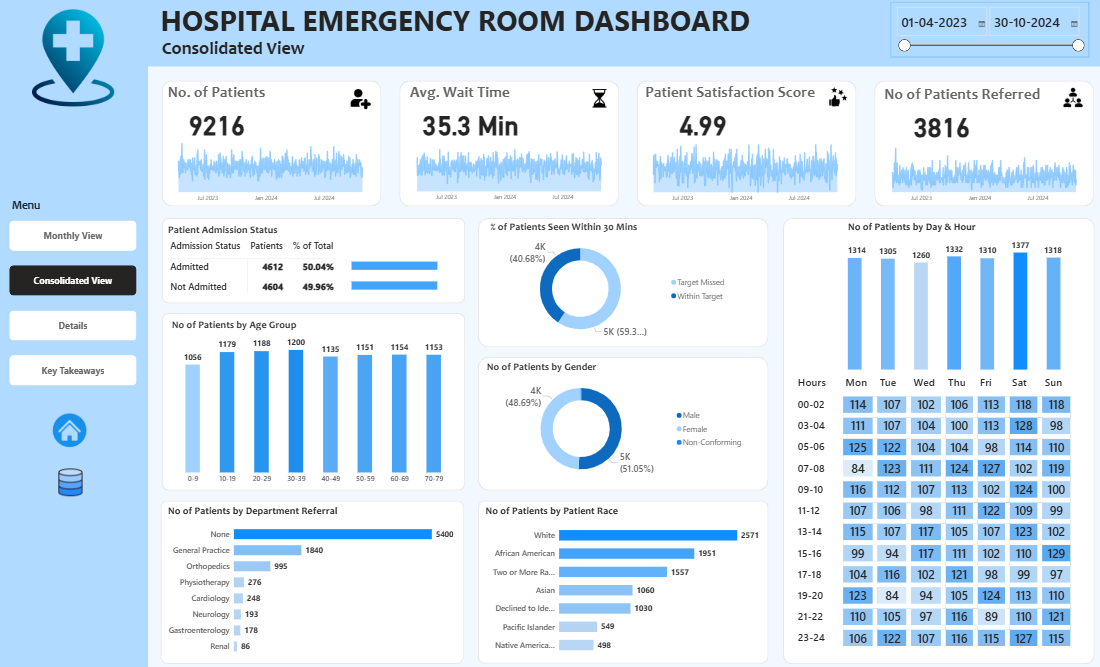

The dashboard page shown, as its layout file describes it:
{"tool":"powerbi","page":{"name":"Consolidated View","canvas":[2300,1400],"ordinal":1},"visuals":[{"type":"shape","box":[338.5,171.3,455.5,261.2],"z":0},{"type":"shape","box":[1324.7,171.3,455.5,261.2],"z":1000},{"type":"shape","box":[0,0,311.3,1399.9],"z":2000},{"type":"shape","box":[831.6,171.3,455.5,261.2],"z":3000},{"type":"card","fields":{"Values":["Hospital ER_Hospital ER.No of Patients"]},"box":[374,225.7,160.9,66.9],"z":4000},{"type":"card","fields":{"Values":["Hospital ER_Hospital ER.Avg Wait Time"]},"box":[869.2,225.7,223.6,66.9],"z":5000},{"type":"card","fields":{"Values":["Avg(Hospital ER_Hospital ER.Patient Satisfaction Score)"]},"box":[1381.4,225.6,160.9,66.9],"z":6000},{"type":"shape","box":[1817.8,171.3,455.5,261.2],"z":7000},{"type":"card","fields":{"Values":["Hospital ER_Hospital ER.Measure"]},"box":[1876.7,227.6,160.9,66.9],"z":8000},{"type":"shape","box":[311.3,0,1989.1,142.1],"z":9000},{"type":"textbox","box":[339.2,171.3,227.8,56.5],"z":10000},{"type":"textbox","box":[841.3,171.3,231.1,56.5],"z":11000},{"type":"textbox","box":[1331.2,172,377.5,55.8],"z":12000},{"type":"textbox","box":[1828.2,173.4,344.8,56.4],"z":13000},{"type":"areaChart","fields":{"Y":["Hospital ER_Hospital ER.No of Patients"],"Category":["Calendar Table.Date.Variation.Date Hierarchy.Year","Calendar Table.Date.Variation.Date Hierarchy.Quarter","Calendar Table.Date.Variation.Date Hierarchy.Month","Calendar Table.Date.Variation.Date Hierarchy.Day"]},"box":[348.4,288.1,435.5,145.2],"z":14000},{"type":"areaChart","fields":{"Category":["Calendar Table.Date.Variation.Date Hierarchy.Year","Calendar Table.Date.Variation.Date Hierarchy.Quarter","Calendar Table.Date.Variation.Date Hierarchy.Month","Calendar Table.Date.Variation.Date Hierarchy.Day"],"Y":["Avg(Hospital ER_Hospital ER.Patient Waittime)"]},"box":[842.1,285.9,435.5,145.2],"z":15000},{"type":"areaChart","fields":{"Category":["Calendar Table.Date.Variation.Date Hierarchy.Year","Calendar Table.Date.Variation.Date Hierarchy.Quarter","Calendar Table.Date.Variation.Date Hierarchy.Month","Calendar Table.Date.Variation.Date Hierarchy.Day"],"Y":["Avg(Hospital ER_Hospital ER.Patient Satisfaction Score)"]},"box":[1333.4,290.4,435.5,142.9],"z":16000},{"type":"areaChart","fields":{"Category":["Calendar Table.Date.Variation.Date Hierarchy.Year","Calendar Table.Date.Variation.Date Hierarchy.Quarter","Calendar Table.Date.Variation.Date Hierarchy.Month","Calendar Table.Date.Variation.Date Hierarchy.Day"],"Y":["Hospital ER_Hospital ER.Measure"]},"box":[1827.1,288.1,435.5,145.2],"z":17000},{"type":"textbox","box":[332.2,0,1294.5,90],"z":18000},{"type":"image","box":[46.9,17.9,218.9,212.2],"z":19000},{"type":"image","box":[1222.3,183.9,52.2,48.1],"z":20000},{"type":"image","box":[724.8,183.1,52.8,51.2],"z":21000},{"type":"image","box":[2198,181.8,62.7,50],"z":22000},{"type":"image","box":[1713.3,179.7,58.5,52.2],"z":23000},{"type":"shape","box":[338.9,455,629.1,177.3],"z":24000},{"type":"shape","box":[994.7,455,602.5,268.3],"z":25000},{"type":"shape","box":[1626.9,455,646.4,925.6],"z":26000},{"type":"shape","box":[996.2,743.7,602.5,277.7],"z":27000},{"type":"donutChart","title":"% of Patients Seen Within 30 Mins","fields":{"Y":["Hospital ER_Hospital ER.No of Patients"],"Category":["Hospital ER_Hospital ER.Waittime Status"]},"box":[1016.6,461,504.4,257.6],"z":28000},{"type":"donutChart","title":"No of Patients by Gender","fields":{"Y":["Hospital ER_Hospital ER.No of Patients"],"Category":["Hospital ER_Hospital ER.Full Gender"]},"box":[1007.2,753.1,547.5,257.3],"z":29000},{"type":"shape","box":[338.9,652.7,629.1,368.7],"z":30000},{"type":"pivotTable","title":"Patient Admission Status","fields":{"Rows":["Hospital ER_Hospital ER.Admission Status"],"Values":["Hospital ER_Hospital ER.No of Patients1","Hospital ER_Hospital ER.No of Patients"]},"box":[347.9,465.5,610,158.3],"z":31000},{"type":"barChart","fields":{"Category":["Hospital ER_Hospital ER.Admission Status"],"Y":["Hospital ER_Hospital ER.No of Patients"]},"box":[729.5,514.6,241.6,120.8],"z":32000},{"type":"clusteredColumnChart","fields":{"Category":["Hospital ER_Hospital ER.Age Group"],"Y":["Hospital ER_Hospital ER.No of Patients"]},"box":[354.6,662.7,599.3,354.6],"z":33000},{"type":"shape","box":[337.3,1041.7,629.1,338.9],"z":34000},{"type":"clusteredBarChart","fields":{"Category":["Hospital ER_Hospital ER.Department Referral"],"Y":["Hospital ER_Hospital ER.No of Patients"]},"box":[348.3,1049.6,602.5,324.8],"z":35000},{"type":"shape","box":[996.5,1043,602.2,338.4],"z":36000},{"type":"clusteredBarChart","fields":{"Y":["Hospital ER_Hospital ER.No of Patients"],"Category":["Hospital ER_Hospital ER.Patient Race"]},"box":[1005.8,1049.2,578.9,324.4],"z":37000},{"type":"pivotTable","fields":{"Columns":["Calendar Table.Day Name"],"Rows":["Hospital ER_Hospital ER.Waittime Interval"],"Values":["Hospital ER_Hospital ER.No of Patients"]},"box":[1649.3,776.3,599.2,583.1],"z":38000},{"type":"clusteredColumnChart","title":"No of Patients by Day & Hour","fields":{"Category":["Calendar Table.Day Name"],"Y":["Hospital ER_Hospital ER.No of Patients"]},"box":[1758.7,461.3,453.4,315.3],"z":39000},{"type":"textbox","box":[333.7,76.1,411.3,59],"z":40000},{"type":"pageNavigator","box":[24.2,462.3,264.1,343.1],"z":41000},{"type":"textbox","box":[24.2,409.1,99.9,48.3],"z":42000},{"type":"image","box":[110.1,854.1,79.5,87.7],"z":43000},{"type":"image","box":[116.7,967,67.4,75.2],"z":45000},{"type":"slicer","fields":{"Values":["Calendar Table.Date"]},"box":[1851.2,8.4,411.6,114.9],"z":46000}]}

Visuals, with their boxes in screenshot pixels (x1, y1, x2, y2), scaled from the page's 2300x1400 canvas onto the 1100x667 screenshot:
shape: (162, 82, 380, 206)
shape: (634, 82, 851, 206)
shape: (0, 0, 149, 666)
shape: (398, 82, 616, 206)
card - Hospital ER_Hospital ER.No of Patients: (179, 108, 256, 139)
card - Hospital ER_Hospital ER.Avg Wait Time: (416, 108, 523, 139)
card - Avg(Hospital ER_Hospital ER.Patient Satisfaction Score): (661, 107, 738, 139)
shape: (869, 82, 1087, 206)
card - Hospital ER_Hospital ER.Measure: (898, 108, 975, 140)
shape: (149, 0, 1099, 68)
textbox: (162, 82, 271, 109)
textbox: (402, 82, 513, 109)
textbox: (637, 82, 817, 109)
textbox: (874, 83, 1039, 109)
areaChart - Hospital ER_Hospital ER.No of Patients x Calendar Table.Date.Variation.Date Hierarchy.Year: (167, 137, 375, 206)
areaChart - Calendar Table.Date.Variation.Date Hierarchy.Year x Calendar Table.Date.Variation.Date Hierarchy.Quarter: (403, 136, 611, 205)
areaChart - Calendar Table.Date.Variation.Date Hierarchy.Year x Calendar Table.Date.Variation.Date Hierarchy.Quarter: (638, 138, 846, 206)
areaChart - Calendar Table.Date.Variation.Date Hierarchy.Year x Calendar Table.Date.Variation.Date Hierarchy.Quarter: (874, 137, 1082, 206)
textbox: (159, 0, 778, 43)
image: (22, 9, 127, 110)
image: (585, 88, 610, 111)
image: (347, 87, 372, 112)
image: (1051, 87, 1081, 110)
image: (819, 86, 847, 110)
shape: (162, 217, 463, 301)
shape: (476, 217, 764, 345)
shape: (778, 217, 1087, 658)
shape: (476, 354, 765, 487)
"% of Patients Seen Within 30 Mins" donutChart: (486, 220, 727, 342)
"No of Patients by Gender" donutChart: (482, 359, 744, 481)
shape: (162, 311, 463, 487)
"Patient Admission Status" pivotTable: (166, 222, 458, 297)
barChart - Hospital ER_Hospital ER.Admission Status x Hospital ER_Hospital ER.No of Patients: (349, 245, 464, 303)
clusteredColumnChart - Hospital ER_Hospital ER.Age Group x Hospital ER_Hospital ER.No of Patients: (170, 316, 456, 485)
shape: (161, 496, 462, 658)
clusteredBarChart - Hospital ER_Hospital ER.Department Referral x Hospital ER_Hospital ER.No of Patients: (167, 500, 455, 655)
shape: (477, 497, 765, 658)
clusteredBarChart - Hospital ER_Hospital ER.No of Patients x Hospital ER_Hospital ER.Patient Race: (481, 500, 758, 654)
pivotTable - Calendar Table.Day Name x Hospital ER_Hospital ER.Waittime Interval: (789, 370, 1075, 648)
"No of Patients by Day & Hour" clusteredColumnChart: (841, 220, 1058, 370)
textbox: (160, 36, 356, 64)
pageNavigator: (12, 220, 138, 384)
textbox: (12, 195, 59, 218)
image: (53, 407, 91, 449)
image: (56, 461, 88, 497)
slicer - Calendar Table.Date: (885, 4, 1082, 59)
